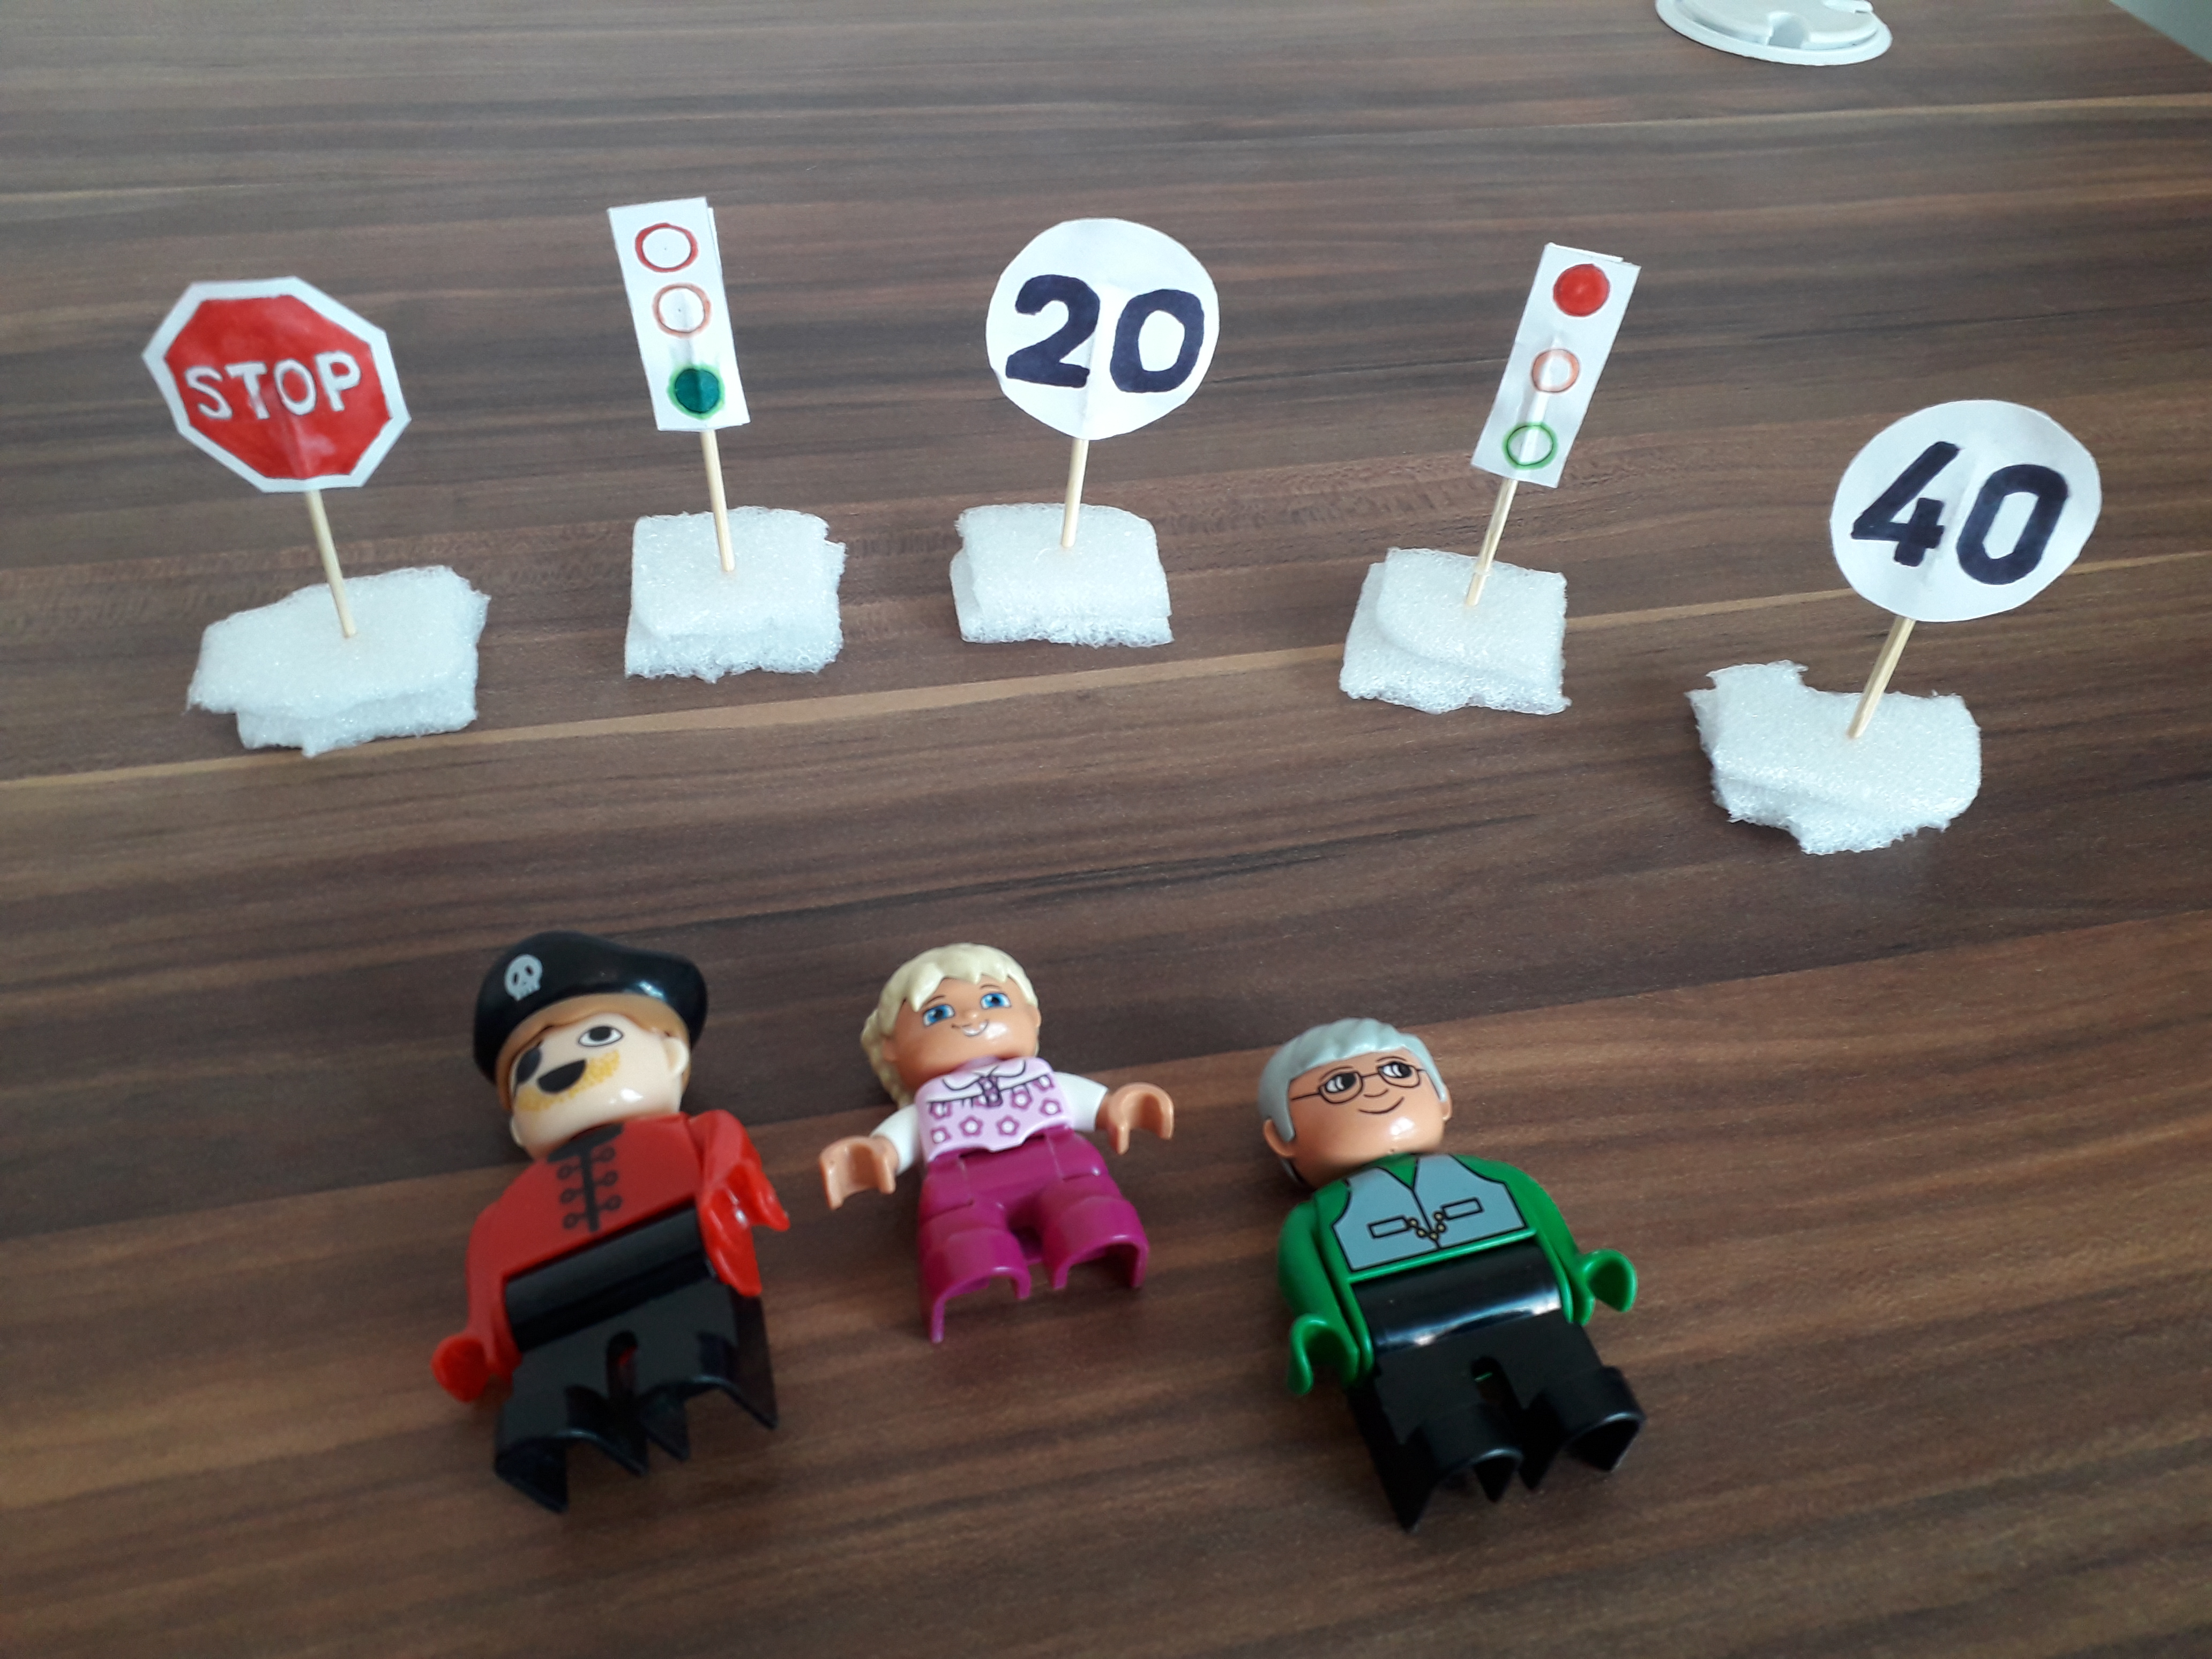20_sign: (980, 212, 1227, 439)
40_sign: (1824, 390, 2102, 625)
green_light: (609, 199, 760, 434)
person: (426, 923, 803, 1505), (1258, 1003, 1648, 1541), (826, 939, 1184, 1342)
red_light: (1475, 240, 1643, 490)
stop_sign: (143, 270, 416, 495)
